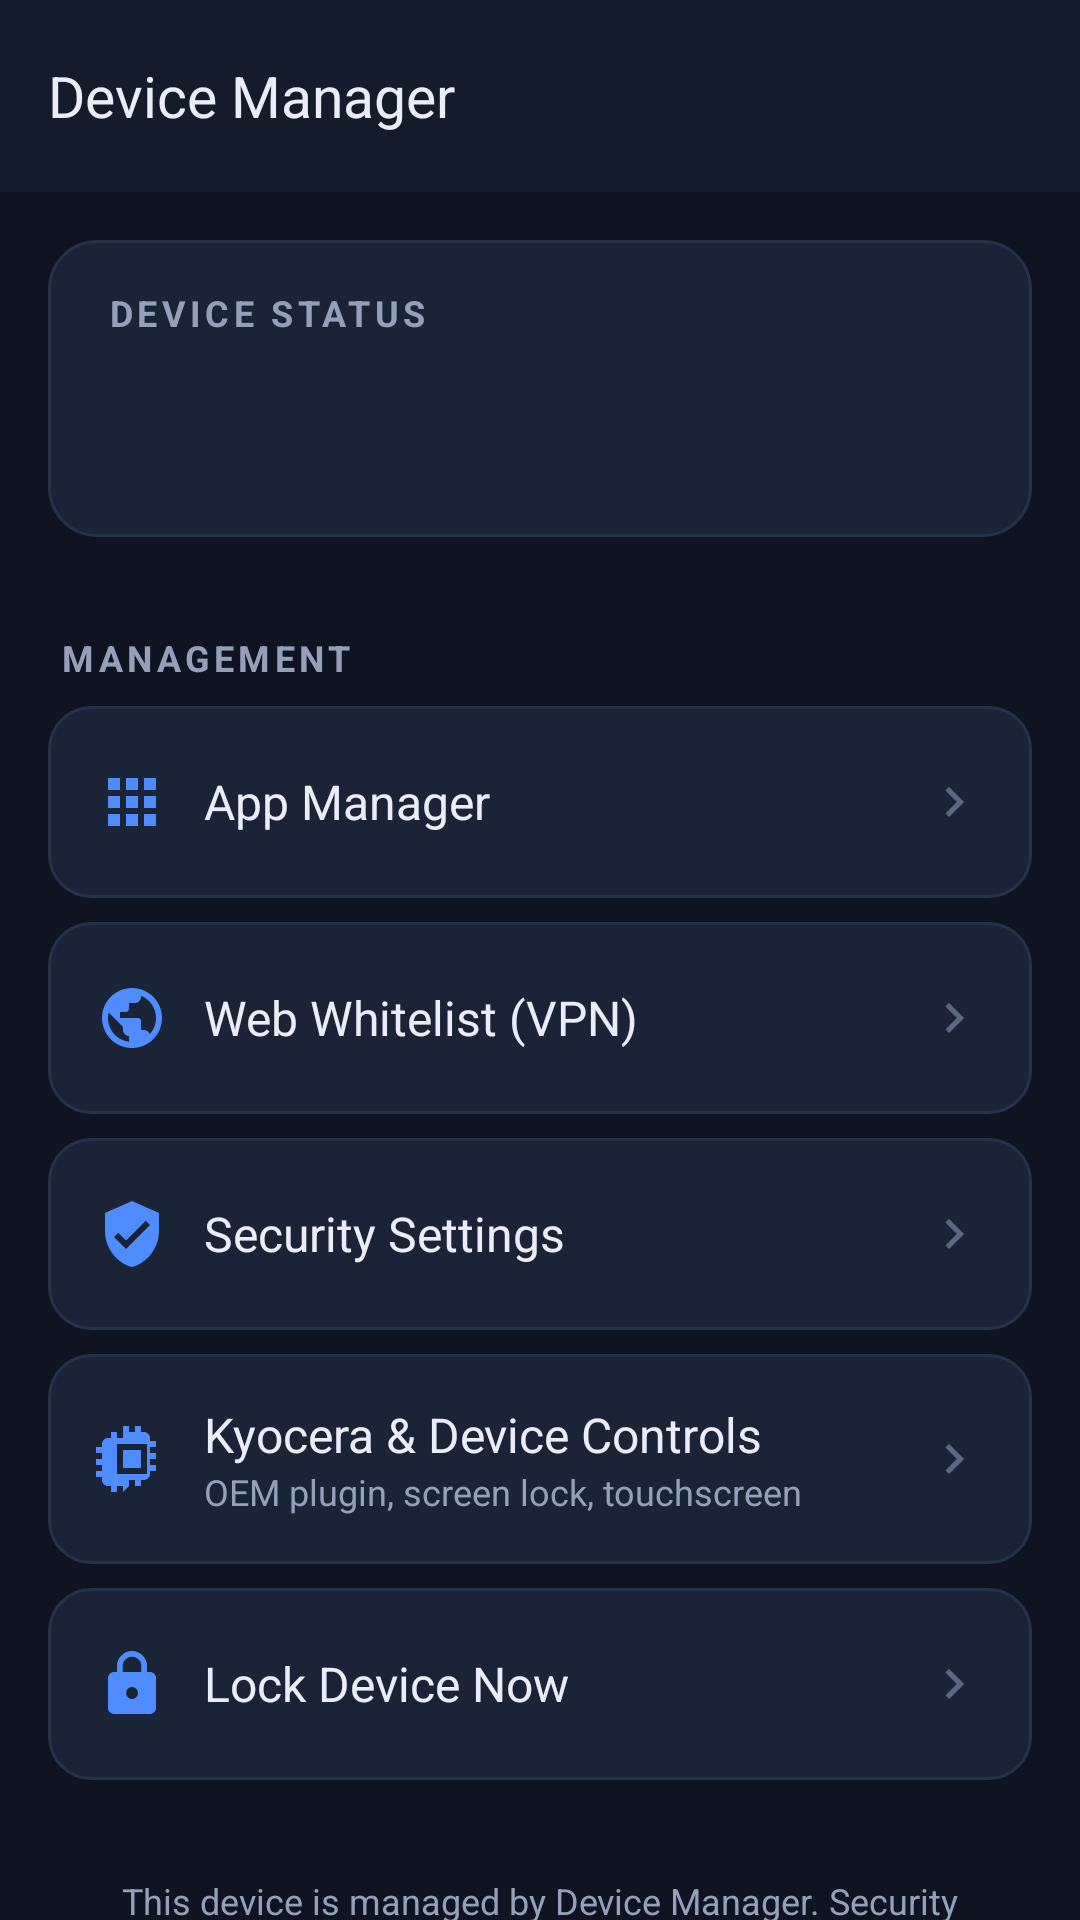

Screen size 1080×1920. Icon name, then its center in pixels as [x,y]:
apps: [132,802]
chevron right: [954,802], [954,1018], [954,1234], [954,1459], [954,1684]
chip: [126,1459]
globe: [132,1018]
